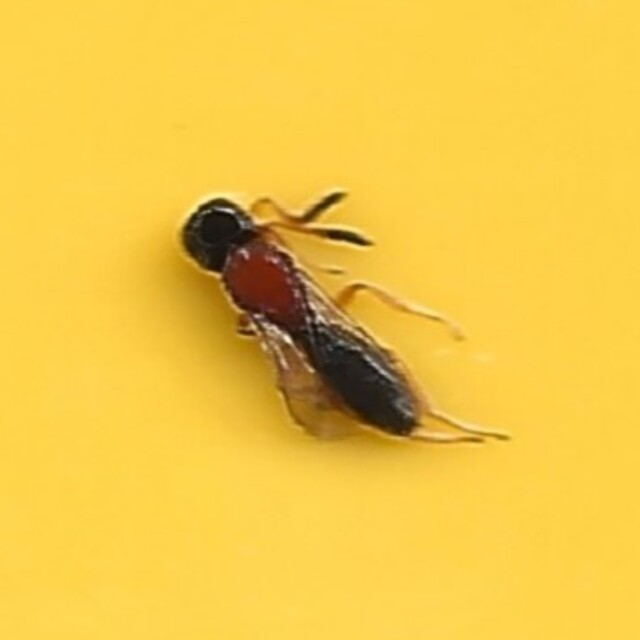Hymenoptera: (181, 177, 459, 463)
